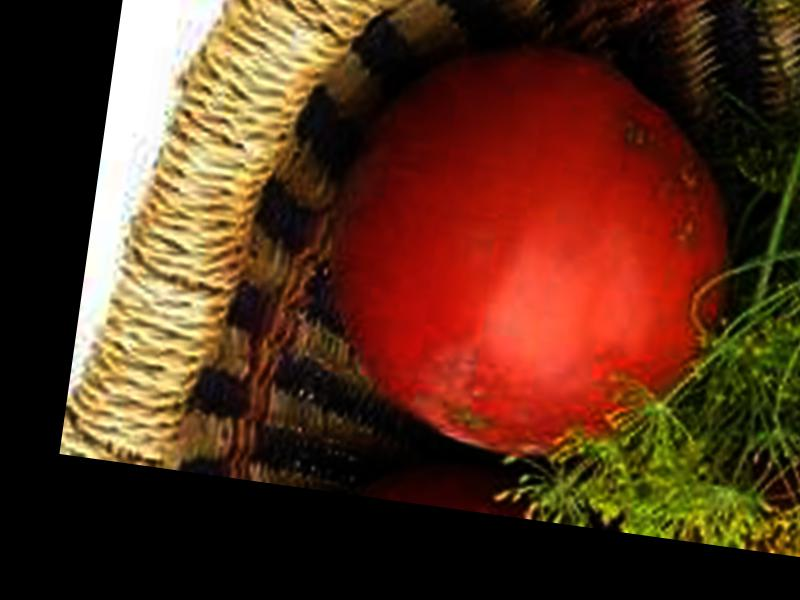Tomato: (306, 25, 760, 483)
